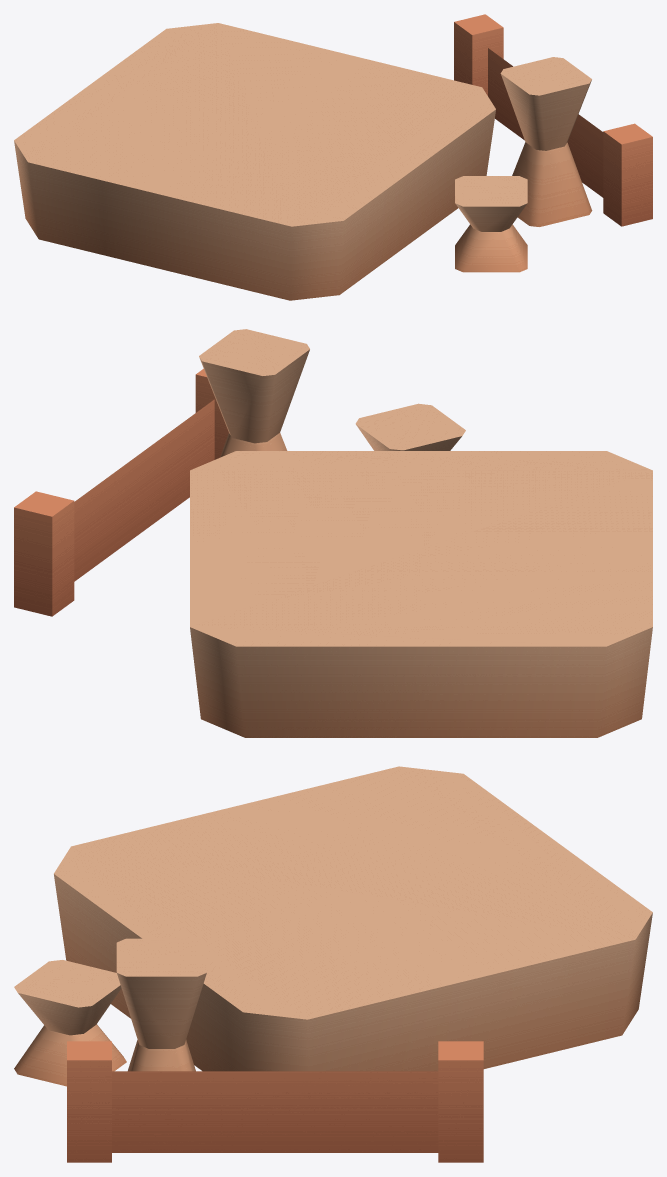
File: hx_building-farm.glb
3 views of the same model, one above another, from view 1: azimuth 30°, elevation 25°; view 2: azimuth 150°, elevation 25°; view 3: azimuth 270°, elevation 25° (orthographic). The views are drawn at different scales.
Size of the model in its own units: 0.7823 by 0.2 by 0.7087.
Materials: 1 (1 with a texture image).
